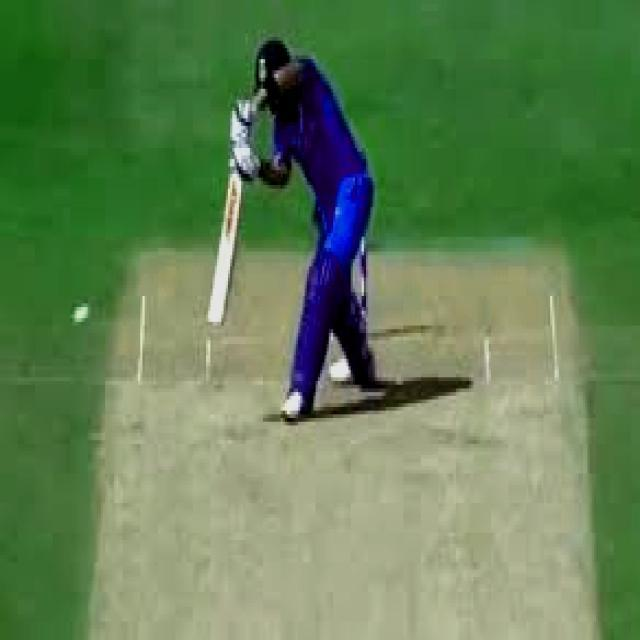bat: (203, 164, 240, 334)
toe: (206, 318, 227, 329)
